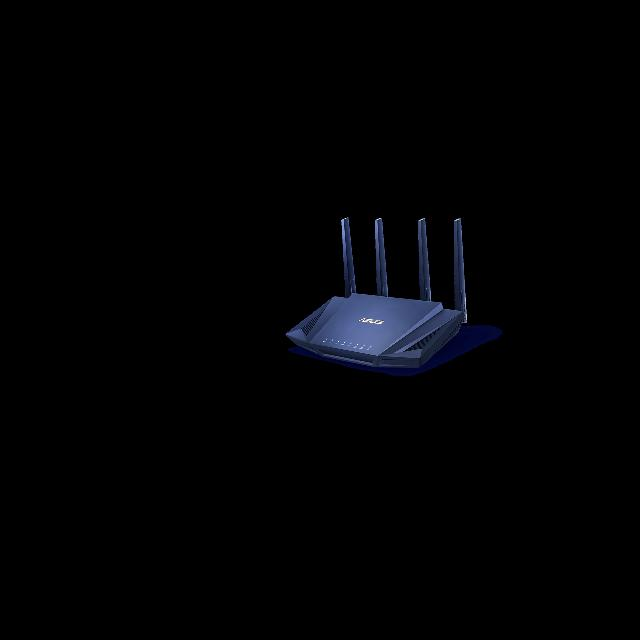Router: (285, 218, 467, 376)
